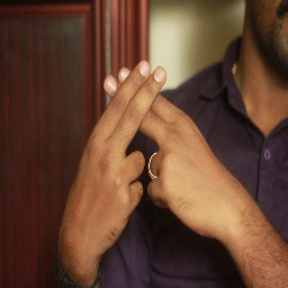F: (83, 52, 203, 184)
